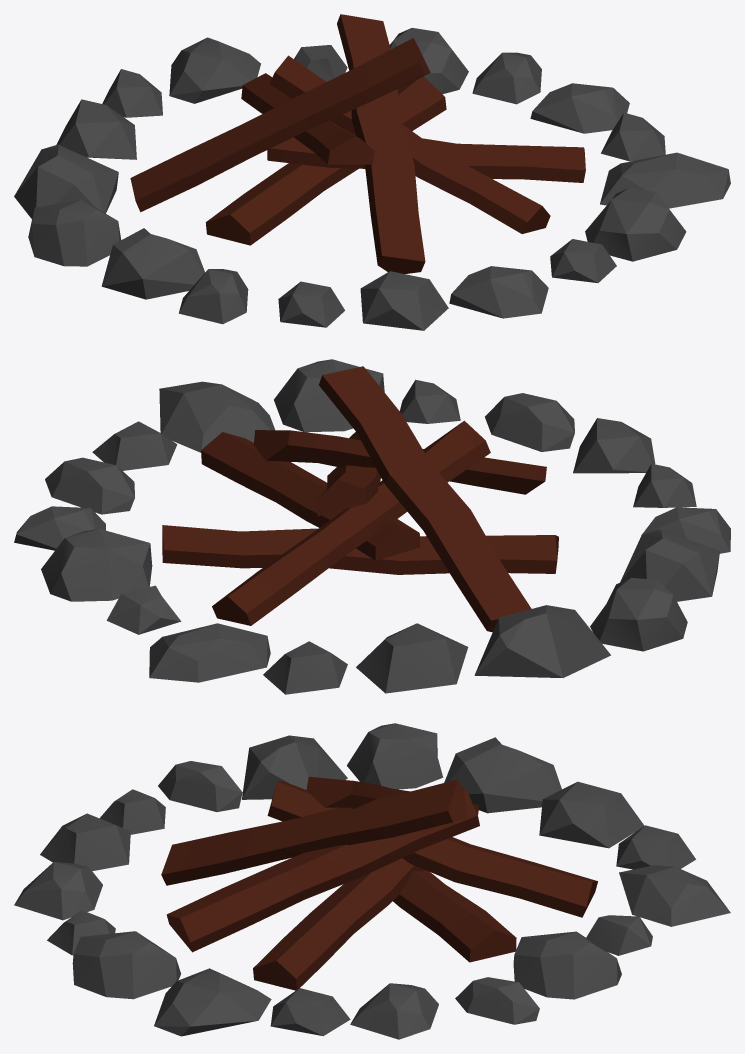
File: bonfire.fbx
3 views of the same model, one above another, from view 1: azimuth 30°, elevation 25°; view 2: azimuth 150°, elevation 25°; view 3: azimuth 270°, elevation 25° (orthographic). The views are drawn at different scales.
Parts seen in each view (by area): view 1: bonfire; view 2: bonfire; view 3: bonfire.
Boxes of the visible parts, x1,y1,x2,y2 form: bonfire: [14, 14, 730, 330]; bonfire: [14, 359, 730, 694]; bonfire: [14, 723, 730, 1039].
Bounding box in the file's own units: 163 × 40.22 × 167.
